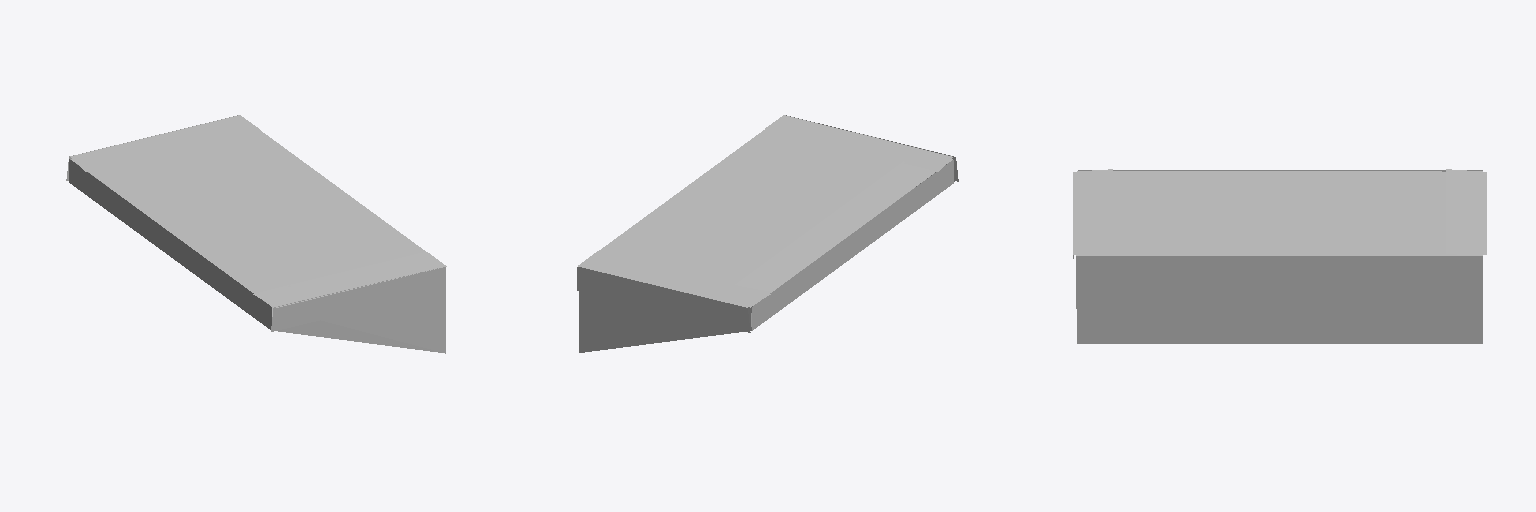
Rendered from Platform_End 1.obj.
3 views of the same model, side by side, from view 1: azimuth 30°, elevation 25°; view 2: azimuth 150°, elevation 25°; view 3: azimuth 270°, elevation 25° (orthographic).
Parts seen in each view (by area): view 1: Floor_Base.023; view 2: Floor_Base.023; view 3: Floor_Base.023.
Boxes of the visible parts, x1=… form: Floor_Base.023: x1=66, y1=115, x2=446, y2=353; Floor_Base.023: x1=577, y1=115, x2=958, y2=352; Floor_Base.023: x1=1073, y1=169, x2=1486, y2=343.
Bounding box in the file's own units: 4.61 × 2.23 × 9.39.